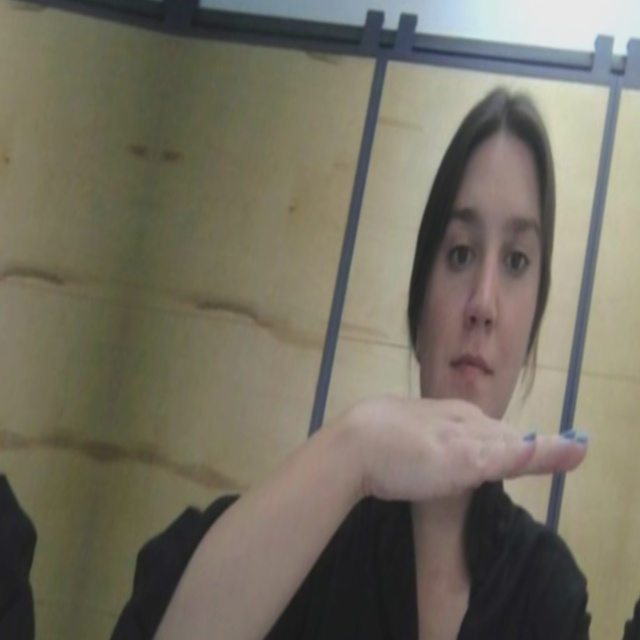Paper: (359, 353, 600, 568)
